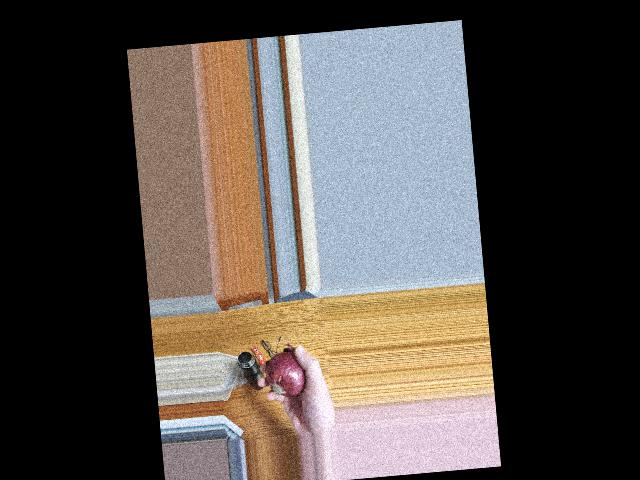onion: (264, 352, 303, 391)
